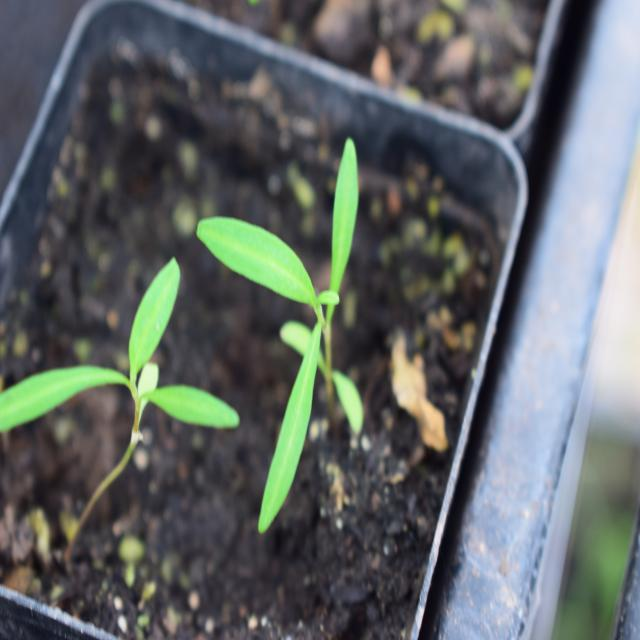white_smart_weed: (193, 116, 402, 521), (0, 204, 252, 454)
